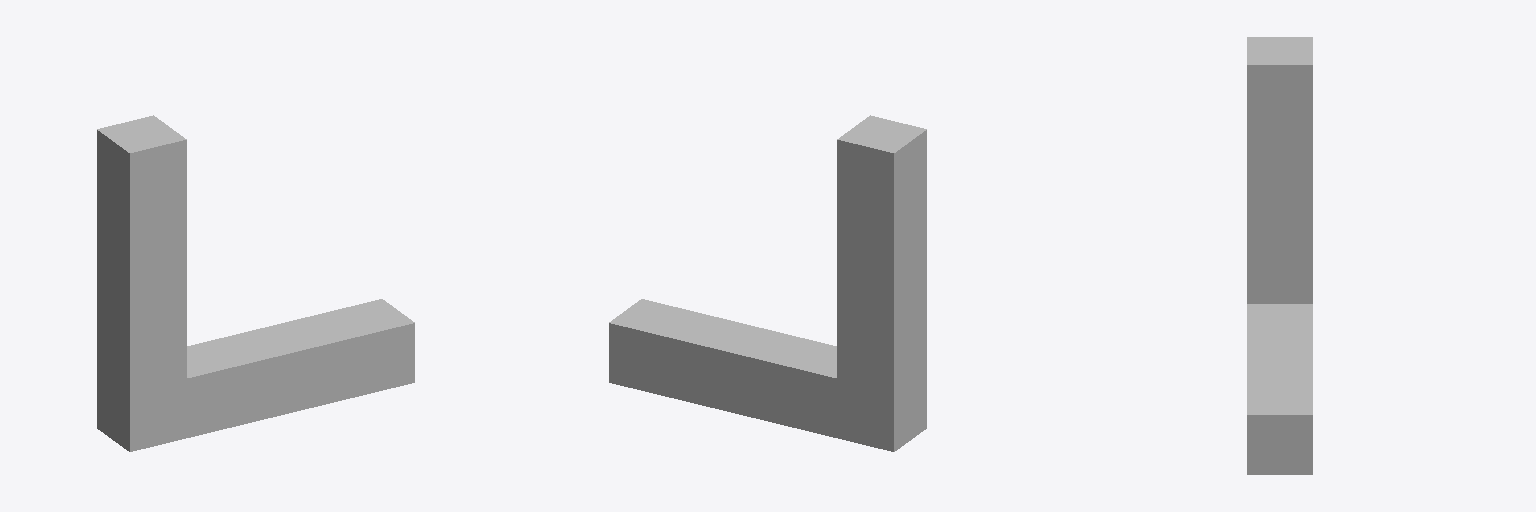
Rendered from beam_8.obj.
3 views of the same model, side by side, from view 1: azimuth 30°, elevation 25°; view 2: azimuth 150°, elevation 25°; view 3: azimuth 270°, elevation 25° (orthographic).
Visible parts, largest first — view 1: beam_8_Cube.068; view 2: beam_8_Cube.068; view 3: beam_8_Cube.068.
Part boxes in pixels (bbox=[...]): beam_8_Cube.068: bbox=[97, 115, 414, 451]; beam_8_Cube.068: bbox=[609, 115, 926, 451]; beam_8_Cube.068: bbox=[1247, 37, 1312, 474].
Bounding box in the file's own units: 1.25 × 1.25 × 0.25.